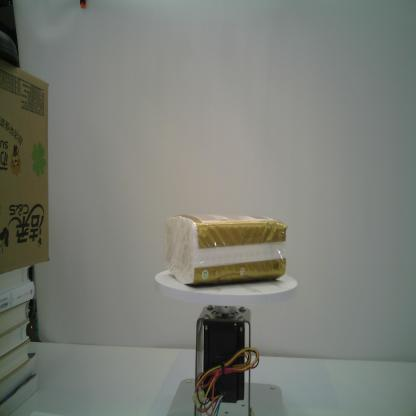Tissue: (164, 214, 288, 284)
